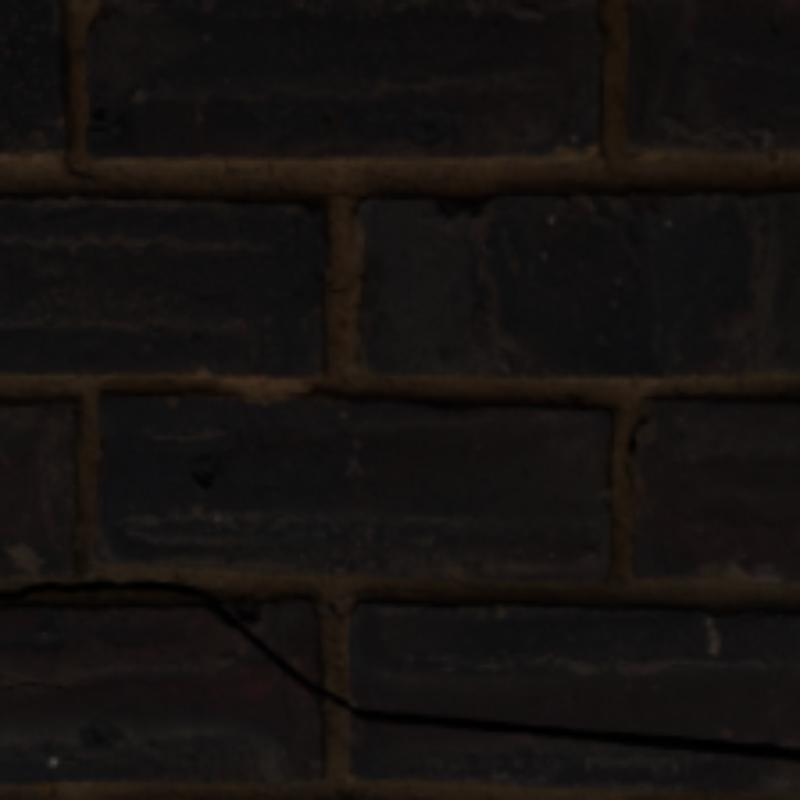pothole: (0, 582, 796, 757)
